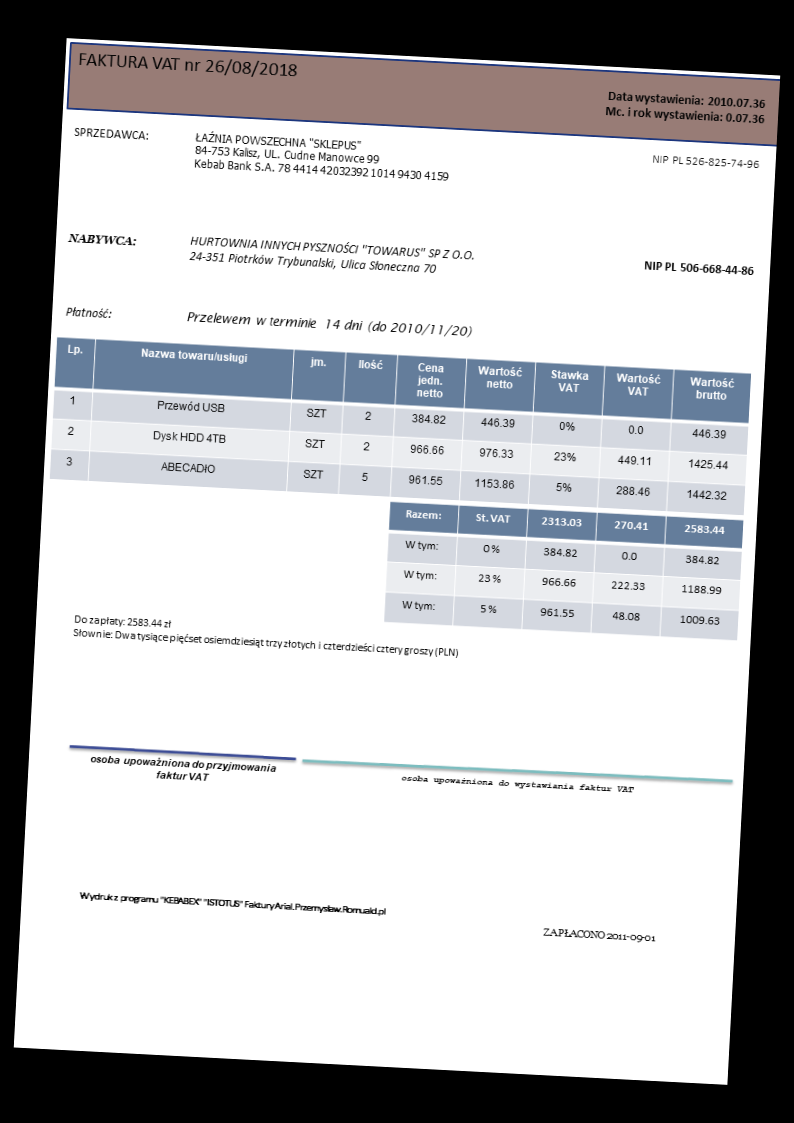Table: (48, 335, 753, 517), (382, 500, 745, 642)
TextBox: (71, 611, 462, 661), (191, 128, 453, 184), (186, 232, 477, 278), (76, 889, 389, 918), (185, 309, 475, 339), (76, 49, 300, 82), (88, 753, 280, 787), (602, 88, 769, 127), (398, 771, 637, 796), (641, 258, 757, 279), (540, 925, 659, 945), (650, 152, 762, 172), (71, 123, 151, 142), (66, 230, 140, 248), (63, 304, 113, 320)
